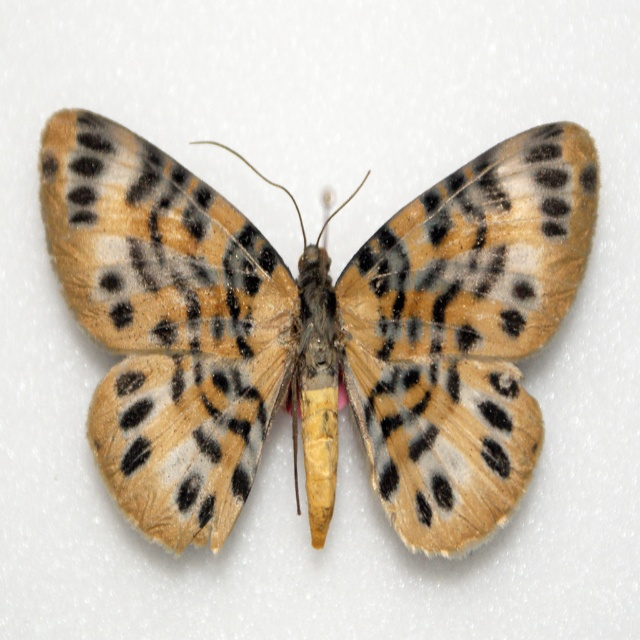Butterfly: (36, 98, 598, 580)
